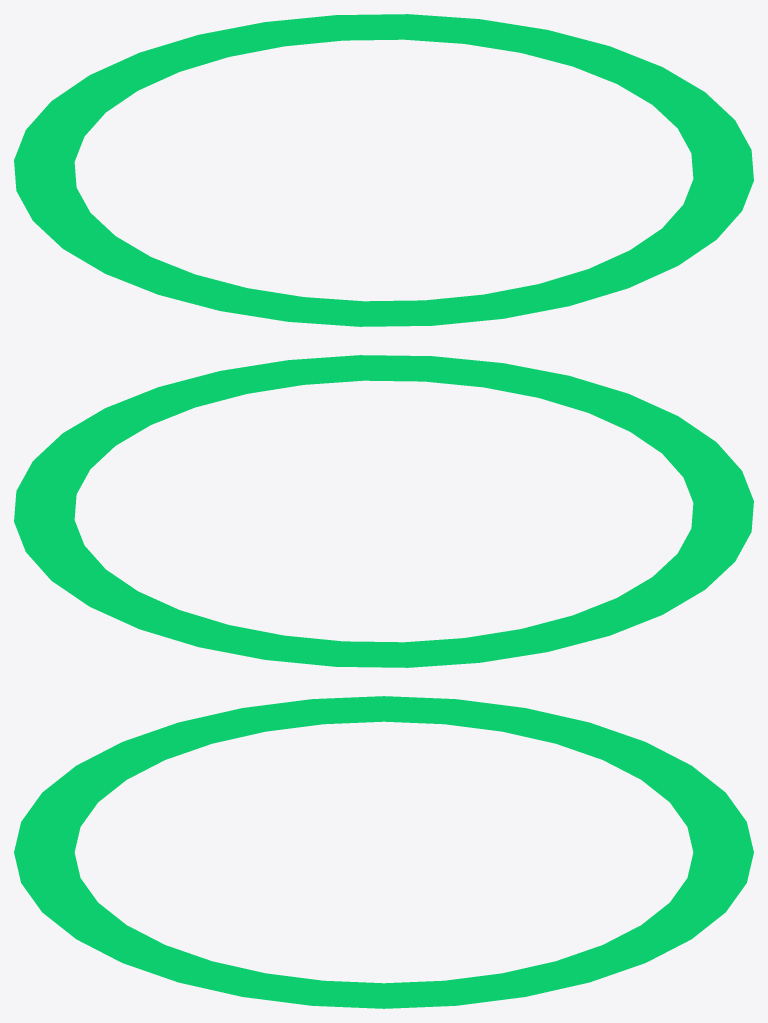
File: ring.fbx
3 views of the same model, one above another, from view 1: azimuth 30°, elevation 25°; view 2: azimuth 150°, elevation 25°; view 3: azimuth 270°, elevation 25° (orthographic).
Visible parts, largest first — view 1: Circle; view 2: Circle; view 3: Circle.
Part boxes in pixels (bbox=[...]): Circle: bbox=[14, 14, 753, 326]; Circle: bbox=[14, 355, 753, 667]; Circle: bbox=[14, 696, 753, 1008].
Size of the model in its own units: 200 by 0 by 200.
